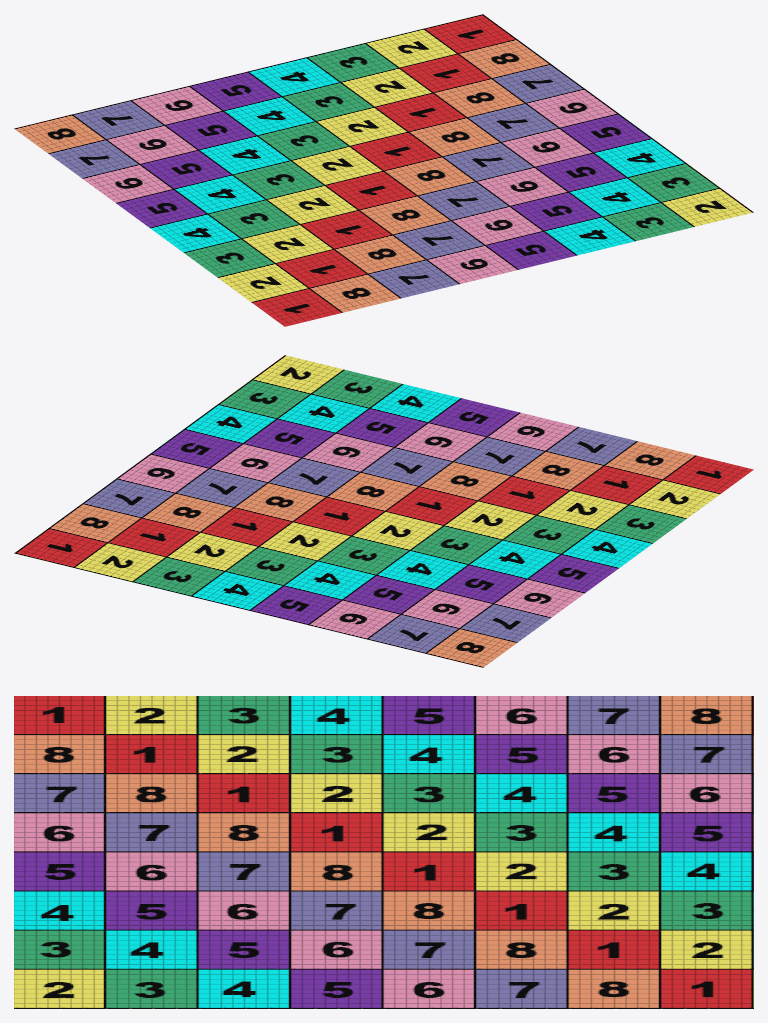
Rendered from watertess_ring2_corner.fbx.
3 views of the same model, one above another, from view 1: azimuth 30°, elevation 25°; view 2: azimuth 150°, elevation 25°; view 3: azimuth 270°, elevation 25° (orthographic). The views are drawn at different scales.
Visible parts, largest first — view 1: watertess_ring2_corner; view 2: watertess_ring2_corner; view 3: watertess_ring2_corner.
Boxes of the visible parts, x1,y1,x2,y2 form: watertess_ring2_corner: (14, 14, 753, 326); watertess_ring2_corner: (14, 355, 753, 667); watertess_ring2_corner: (14, 696, 753, 1008).
Bounding box in the file's own units: 128 × 2.09e-05 × 128.
